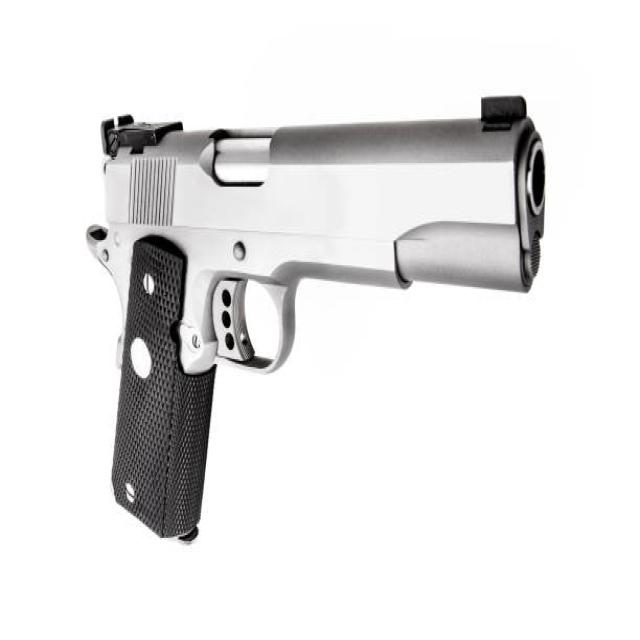pistol: (85, 88, 553, 550)
